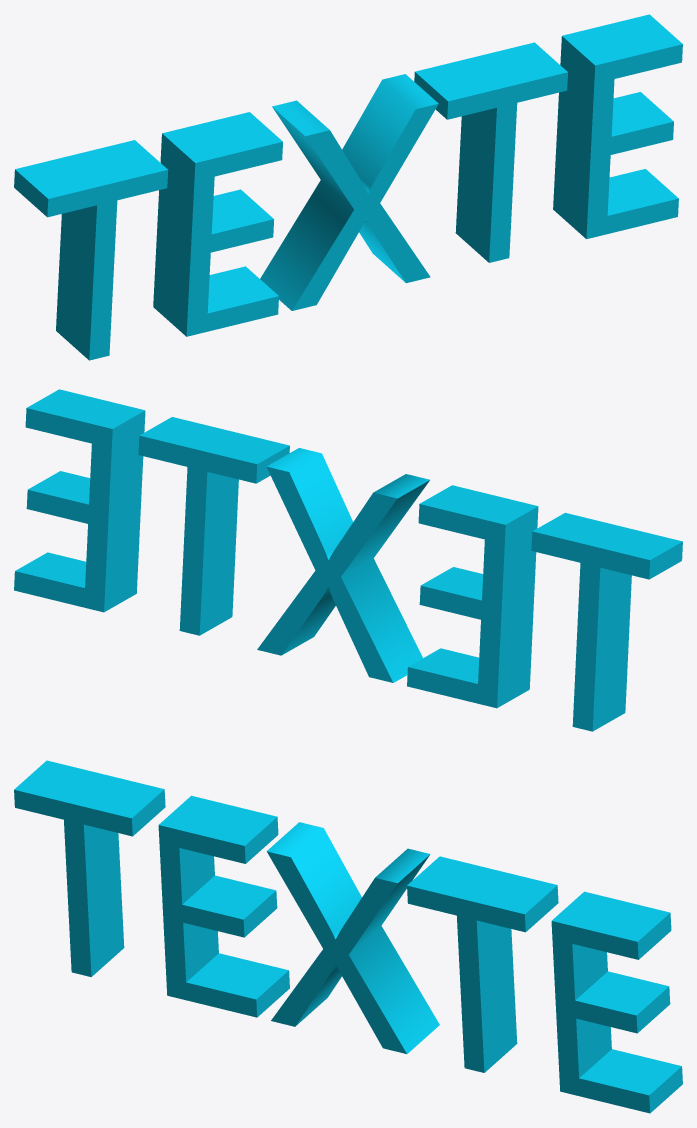
The model's file is Sans titre.glb.
The picture shows the model from 3 angles, top to bottom: view 1: azimuth 30°, elevation 25°; view 2: azimuth 150°, elevation 25°; view 3: azimuth 330°, elevation 25°; orthographic projection.
Visible parts, largest first — view 1: mesh_id45; view 2: mesh_id45; view 3: mesh_id45.
Boxes of the visible parts, box(x1,y1,x2,y2) form: mesh_id45: box(14, 14, 682, 360); mesh_id45: box(14, 389, 682, 731); mesh_id45: box(14, 760, 682, 1113).
Size of the model in its own units: 0.2477 by 0.0688 by 0.0283.
